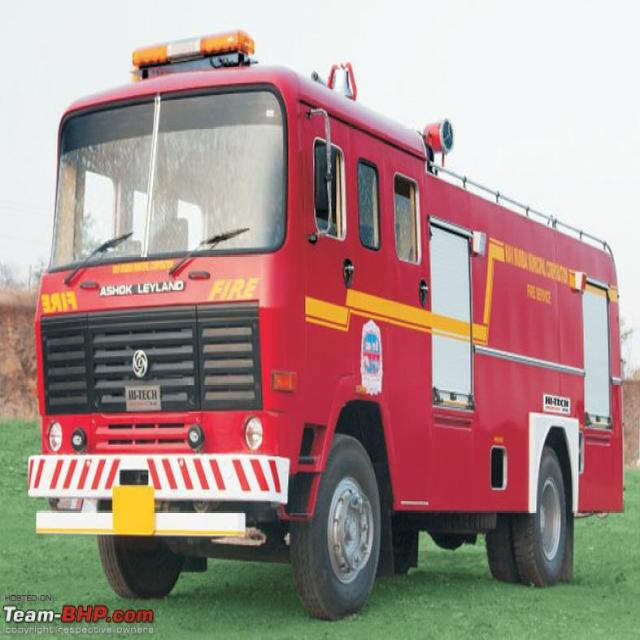emergency: (29, 32, 624, 618)
